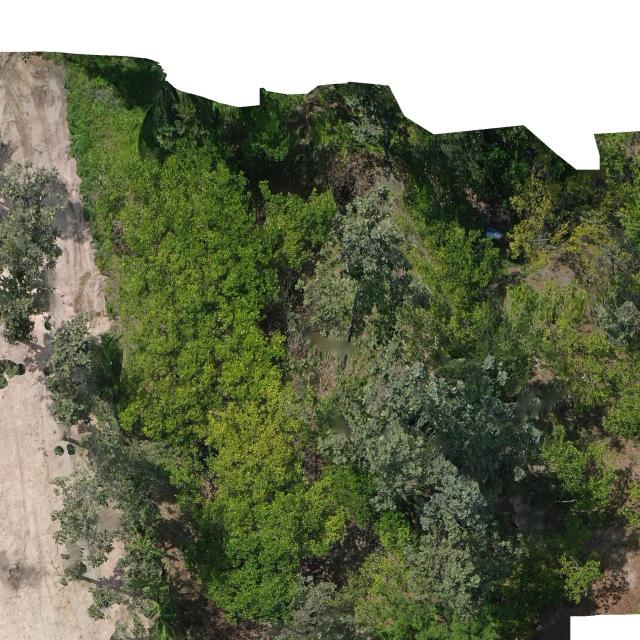Tree: (330, 345, 545, 620), (293, 183, 423, 351), (48, 426, 164, 587), (0, 161, 62, 347), (86, 551, 172, 640), (43, 308, 98, 430), (124, 522, 167, 565), (150, 596, 178, 640), (142, 574, 172, 602)
